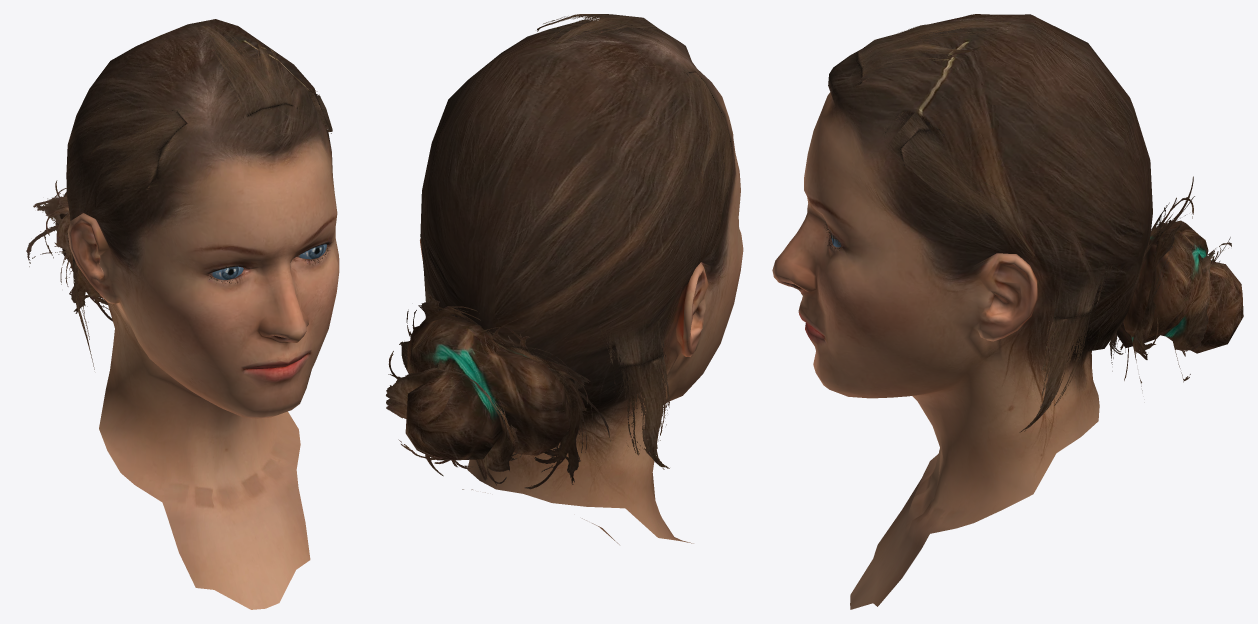
Rendered from lena.glb.
The picture shows the model from 3 angles, left to right: view 1: azimuth 30°, elevation 25°; view 2: azimuth 150°, elevation 25°; view 3: azimuth 270°, elevation 25°; orthographic projection. The views are drawn at different scales.
Visible parts, largest first — view 1: skin, hair, eyes; view 2: skin, hair; view 3: skin, hair.
Boxes of the visible parts, x1,y1,x2,y2 form: skin: (57,19,339,609); hair: (26,25,332,369); eyes: (209,244,326,279); skin: (405,20,743,544); hair: (386,14,733,489); skin: (772,14,1243,609); hair: (824,19,1231,432).
Bounding box in the file's own units: 0.1603 × 0.3518 × 0.2554.
3 materials, 3 textured.
